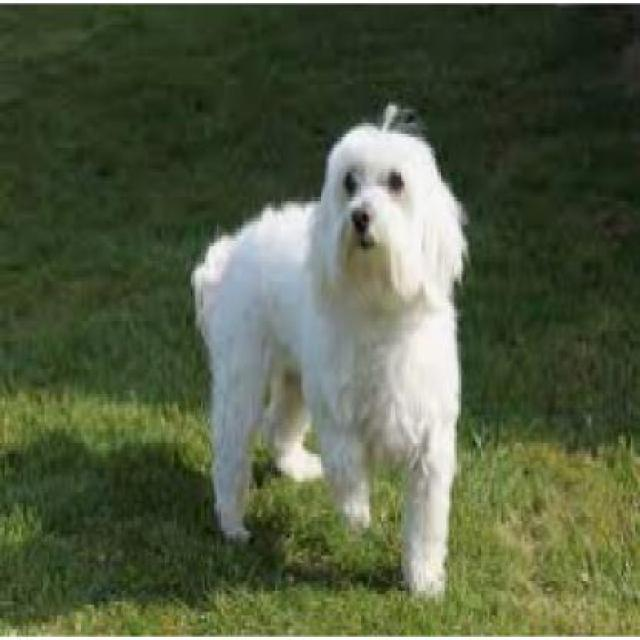Dog: (186, 91, 474, 611)
